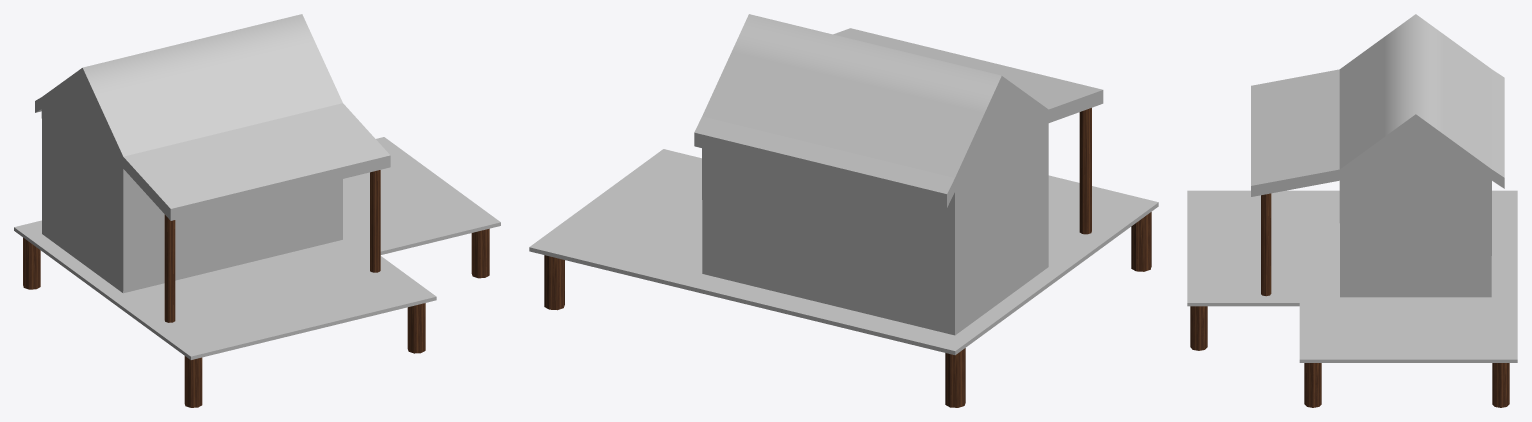
The model's file is Fishing Rental.fbx.
3 renders of one model, left to right at view 1: azimuth 30°, elevation 25°; view 2: azimuth 150°, elevation 25°; view 3: azimuth 270°, elevation 25°, orthographic. The views are drawn at different scales.
Visible parts, largest first — view 1: Log9; view 2: Log9; view 3: Log9.
Part boxes in pixels (x1=…): Log9: x1=14, y1=14, x2=500, y2=407; Log9: x1=529, y1=14, x2=1158, y2=407; Log9: x1=1187, y1=14, x2=1517, y2=407.
Size of the model in its own units: 1191 by 769 by 985.
